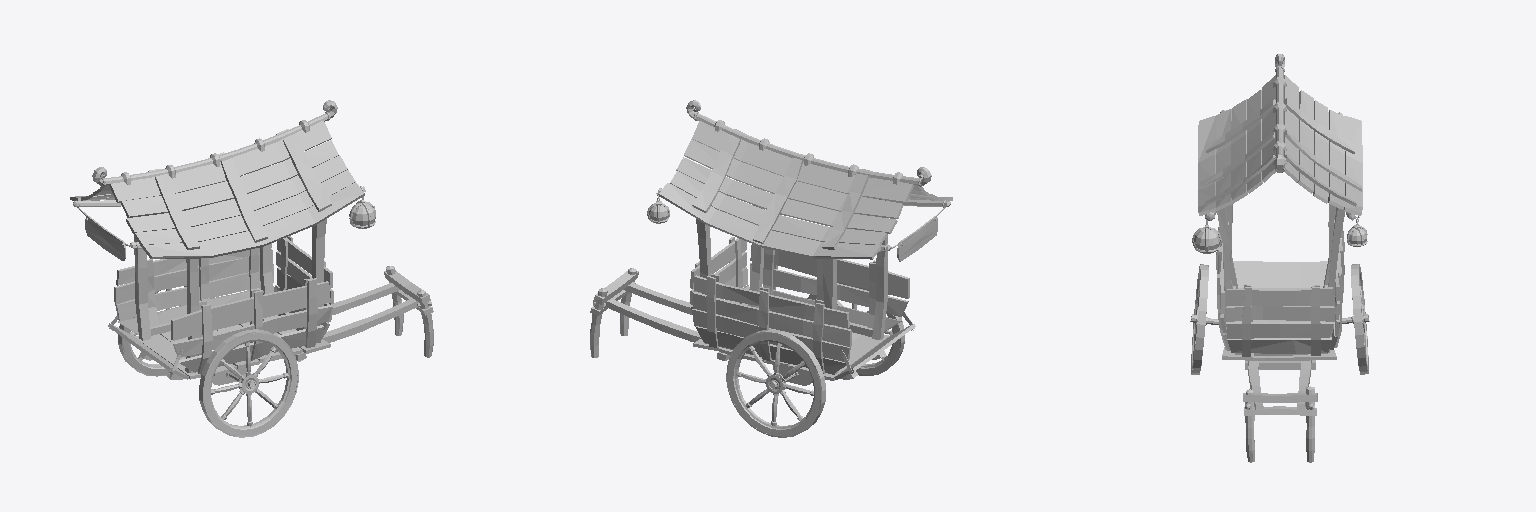
The model's file is cart.obj.
3 renders of one model, left to right at view 1: azimuth 30°, elevation 25°; view 2: azimuth 150°, elevation 25°; view 3: azimuth 270°, elevation 25°, orthographic.
Parts seen in each view (by area): view 1: cart_lp; view 2: cart_lp; view 3: cart_lp.
Part boxes in pixels (bbox=[...]): cart_lp: bbox=[70, 100, 433, 437]; cart_lp: bbox=[590, 100, 952, 437]; cart_lp: bbox=[1190, 54, 1369, 462].
Bounding box in the file's own units: 23.31 × 18.85 × 11.15.